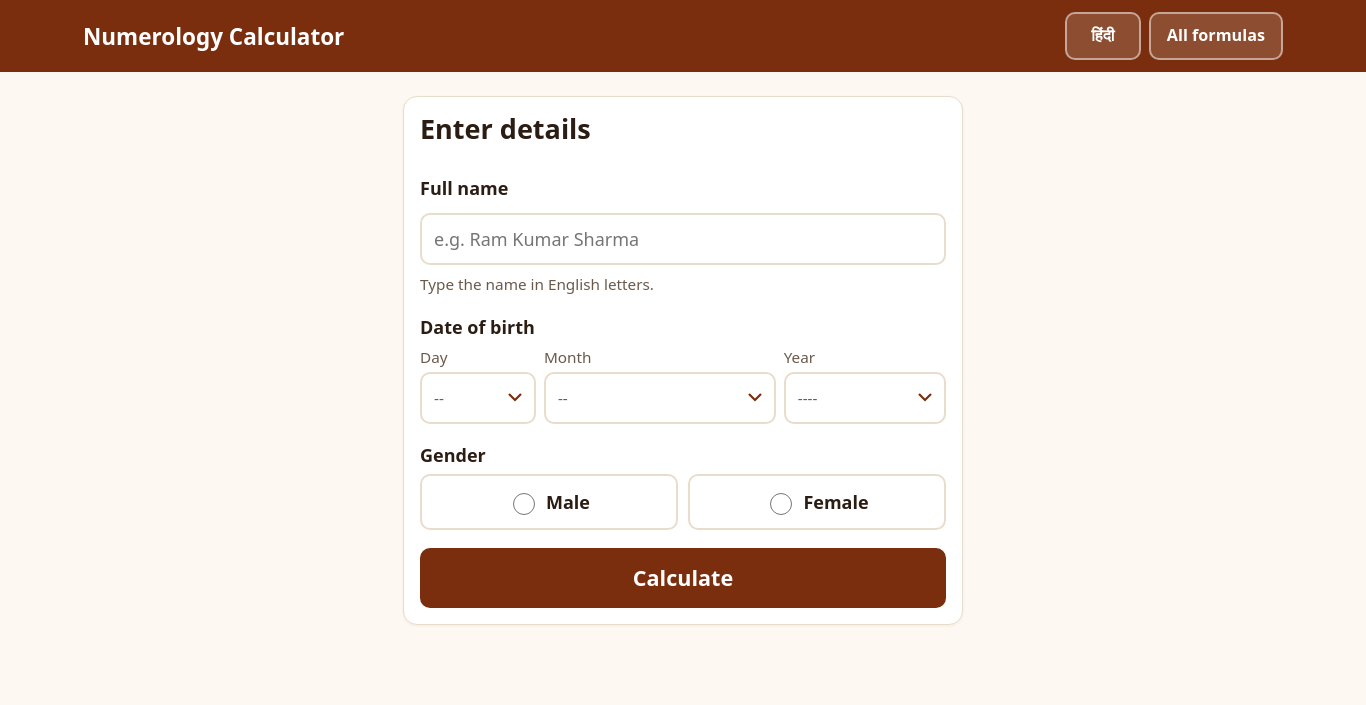
Test case: results › shows the main numbers
This screenshot has width=1366, height=705.
Type "Ram Kumar" into the field labelled "Full name".
click(683, 240); type("Ram Kumar")  # box [420,214,946,266]
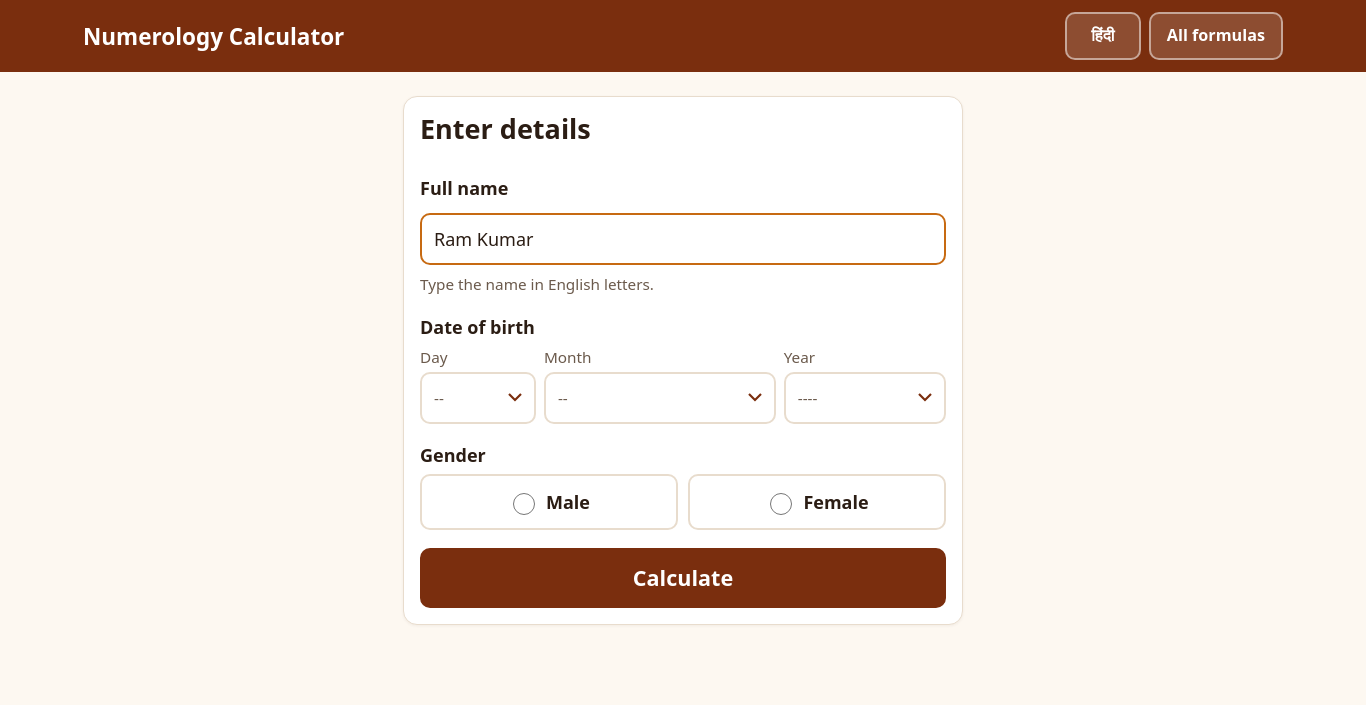
Select "29" in the dropdown labelled "Day" at (478, 398), box [420,372,536,424]
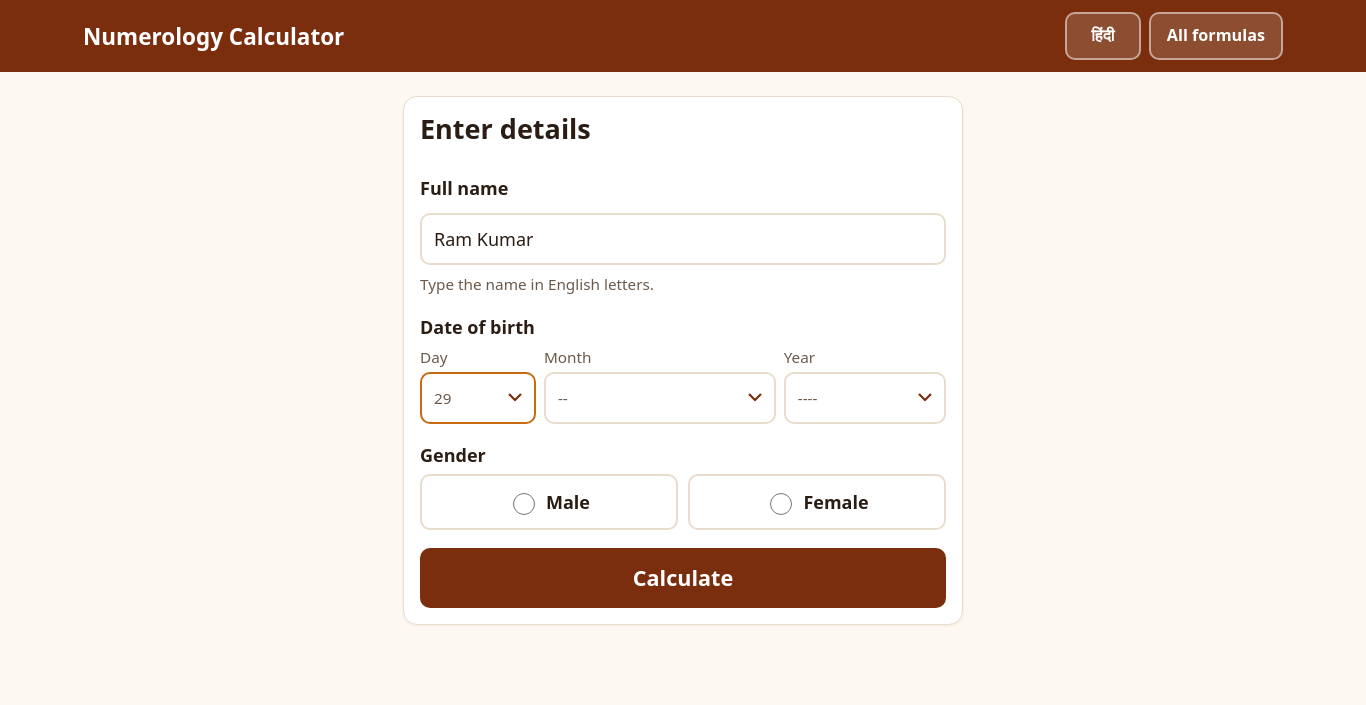
Select "8 – August" in the dropdown labelled "Month" at (660, 398), box [544,372,776,424]
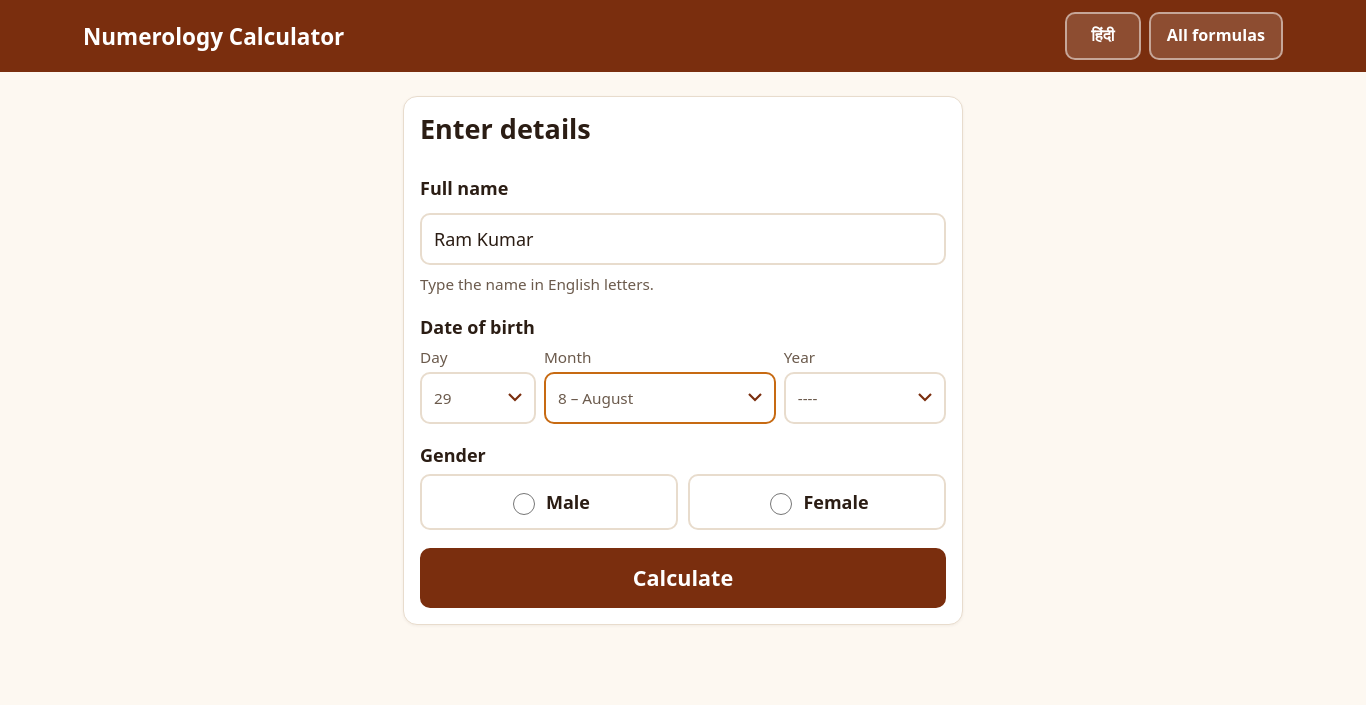
Select "1985" in the dropdown labelled "Year" at (865, 398), box [784,372,946,424]
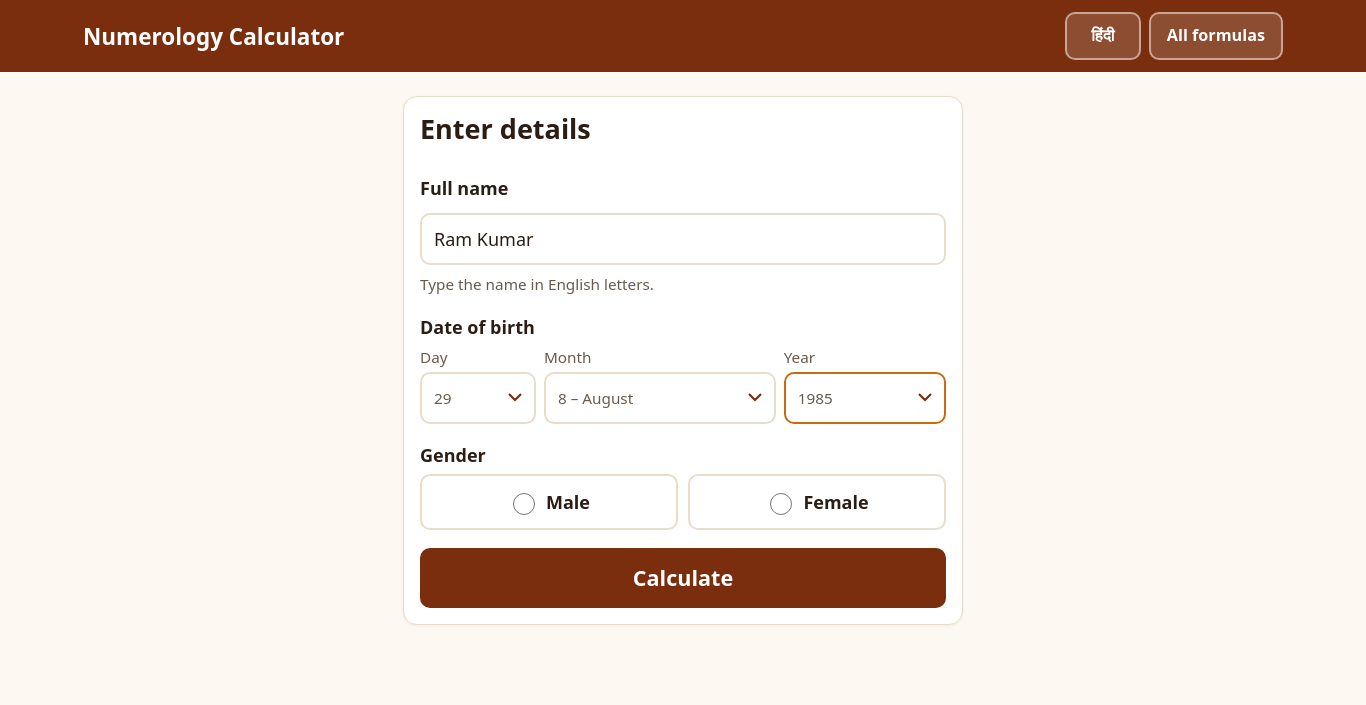
Click the radio button labelled "Male".
click(524, 504)  # box [513,492,535,514]
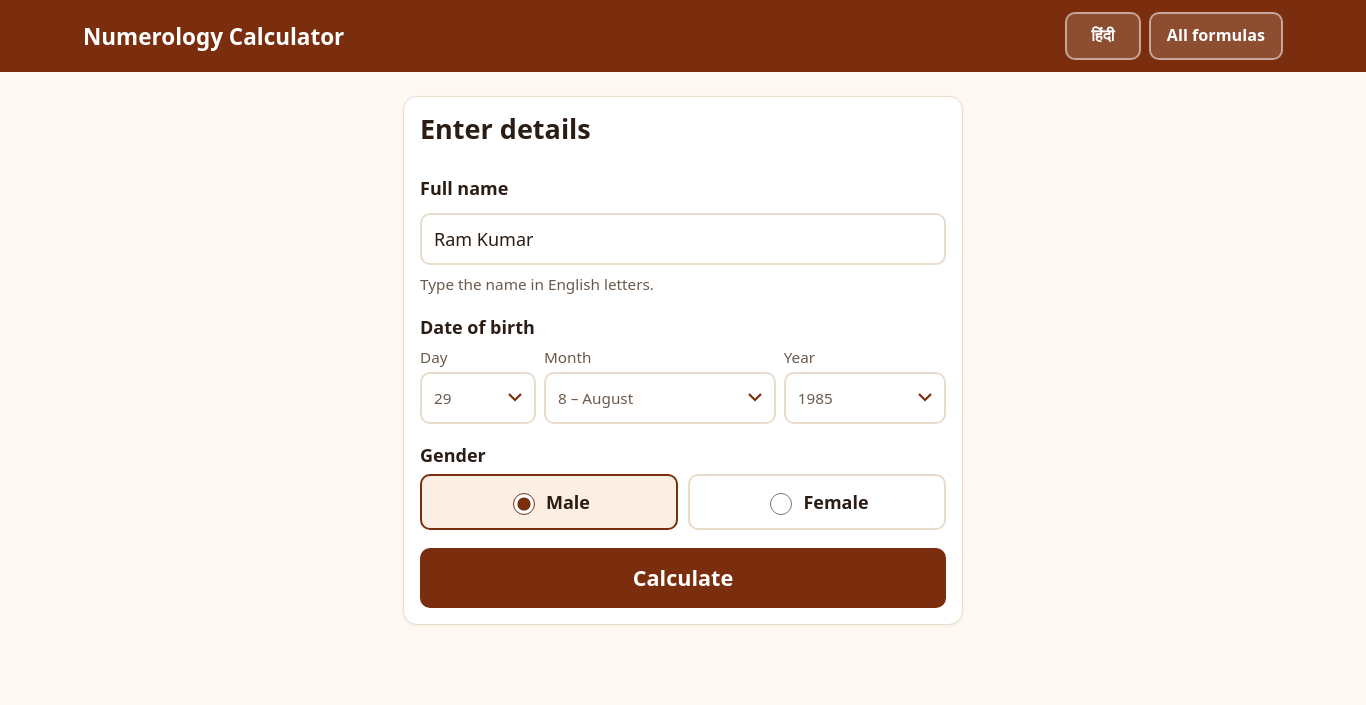
Click the button "Calculate".
click(683, 578)  # box [420,548,946,608]
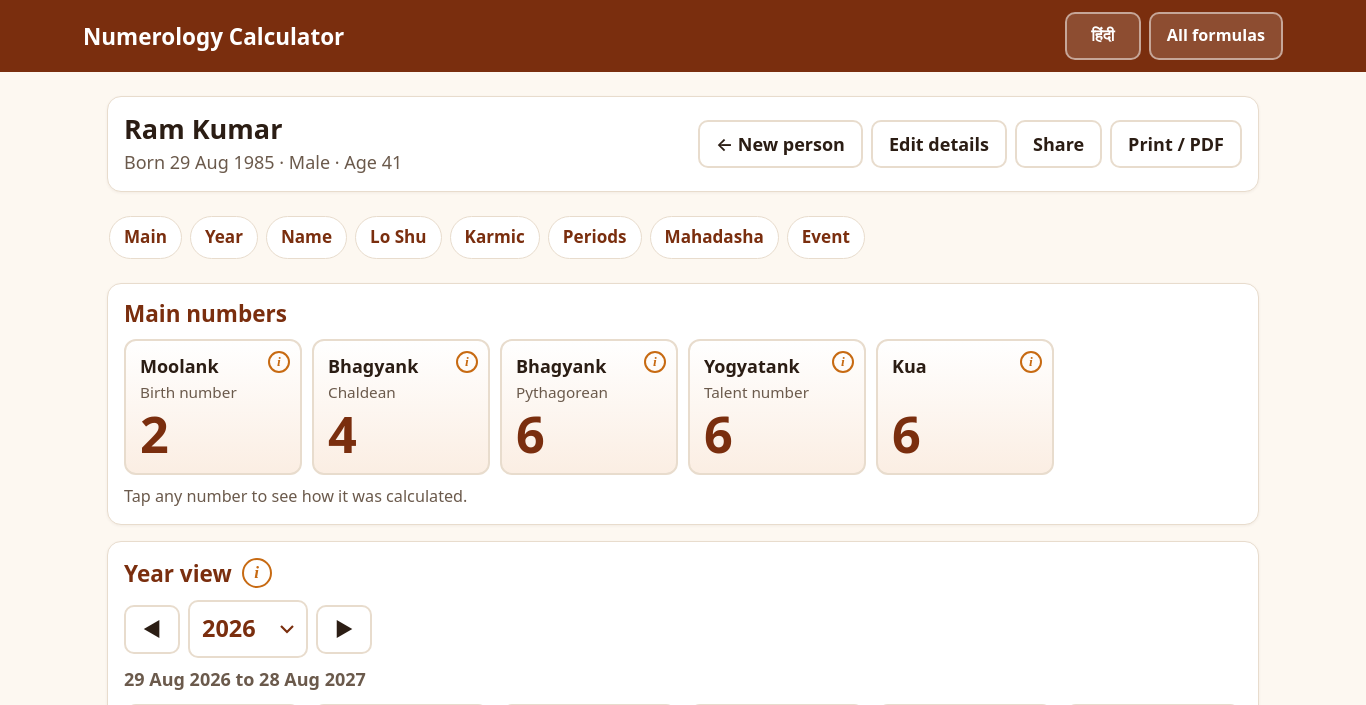
Result: the heading with test id "person-name" reads "Ram Kumar" at [124,110,282,147]
Result: the text "Born 29 Aug 1985 · Male · Age 41" is shown at [124,150,402,174]
Result: the button with aria-label "Moolank (Birth number): 2." is shown at [124,339,302,475]
